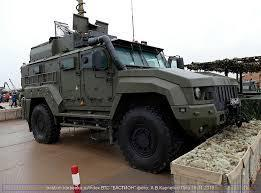armored_car: (16, 3, 243, 165)
